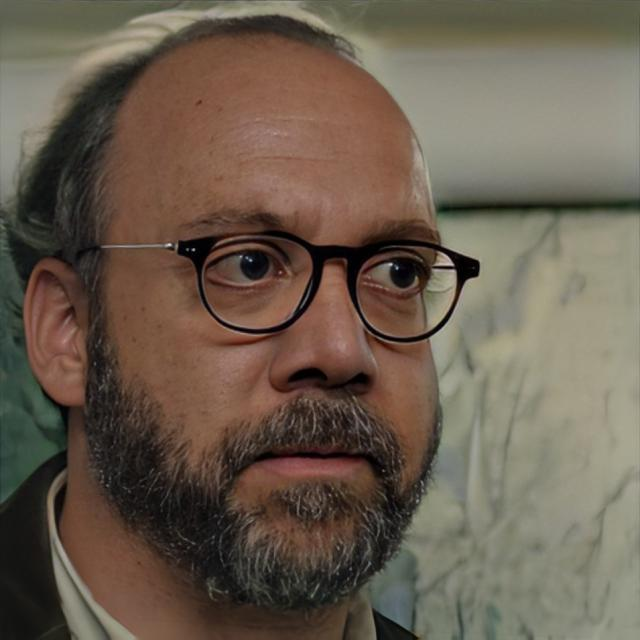fear: (90, 23, 443, 618)
